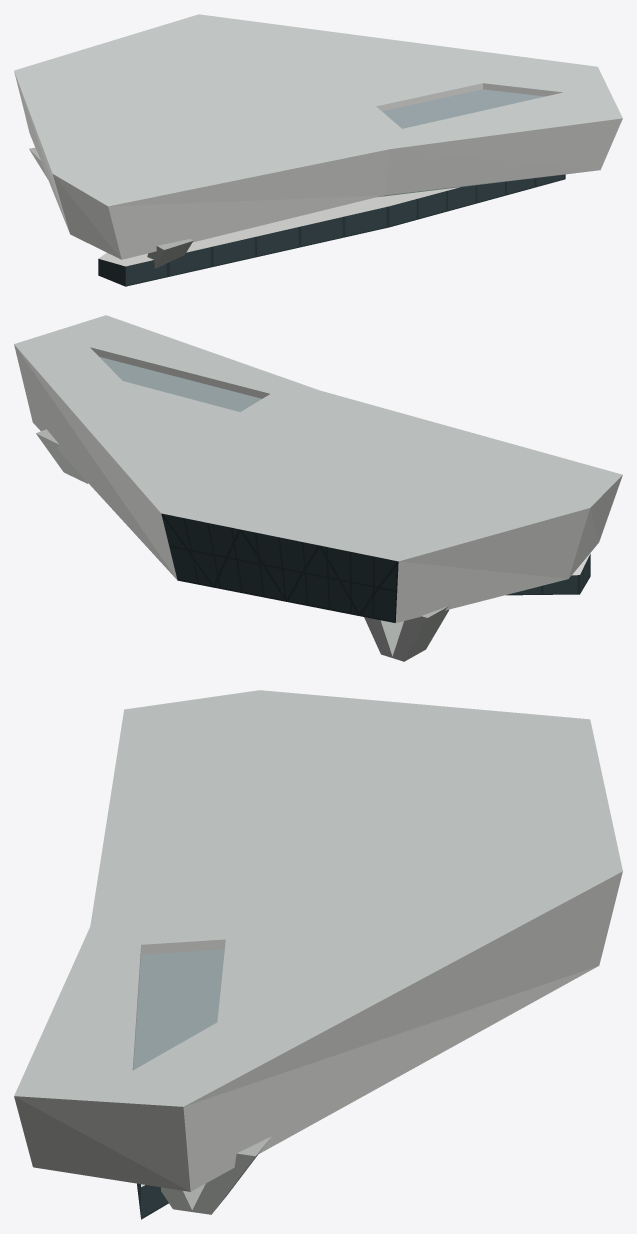
Rendered from porsche-museum-far.glb.
3 renders of one model, top to bottom at view 1: azimuth 30°, elevation 25°; view 2: azimuth 150°, elevation 25°; view 3: azimuth 270°, elevation 25°, orthographic. The views are drawn at different scales.
Parts seen in each view (by area): view 1: porsche-museum-0-roof, porsche-museum-0-white, porsche-museum-0-glow, porsche-museum-0-soffit, porsche-museum-0-frame, porsche-museum-0-concrete; view 2: porsche-museum-0-roof, porsche-museum-0-white, porsche-museum-0-glow, porsche-museum-0-frame, porsche-museum-0-concrete, porsche-museum-0-soffit; view 3: porsche-museum-0-roof, porsche-museum-0-white, porsche-museum-0-soffit, porsche-museum-0-concrete.
Part boxes in pixels (left/top/right/bottom): porsche-museum-0-roof: left=14, top=14, right=622, bottom=206; porsche-museum-0-white: left=14, top=72, right=622, bottom=266; porsche-museum-0-glow: left=98, top=174, right=563, bottom=285; porsche-museum-0-soffit: left=377, top=89, right=592, bottom=197; porsche-museum-0-frame: left=98, top=174, right=565, bottom=286; porsche-museum-0-concrete: left=29, top=147, right=193, bottom=268; porsche-museum-0-roof: left=14, top=315, right=622, bottom=561; porsche-museum-0-white: left=14, top=344, right=622, bottom=622; porsche-museum-0-glow: left=162, top=514, right=590, bottom=620; porsche-museum-0-frame: left=161, top=513, right=590, bottom=622; porsche-museum-0-concrete: left=36, top=429, right=448, bottom=661; porsche-museum-0-soffit: left=100, top=357, right=261, bottom=411; porsche-museum-0-roof: left=14, top=690, right=622, bottom=1106; porsche-museum-0-white: left=14, top=871, right=622, bottom=1191; porsche-museum-0-soffit: left=133, top=949, right=224, bottom=1069; porsche-museum-0-concrete: left=161, top=1136, right=271, bottom=1214.
Size of the model in its own units: 115 by 23 by 71.86.
